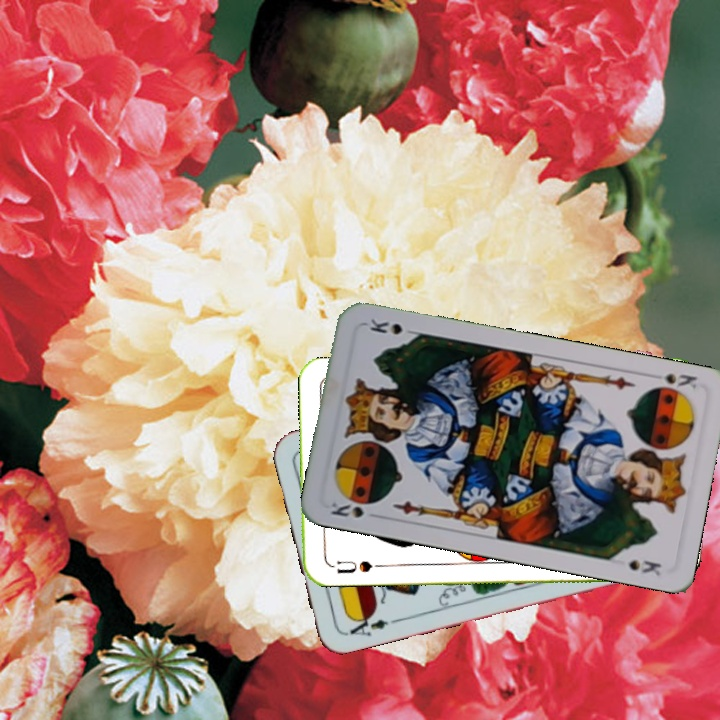EA: (345, 609, 400, 639)
SK: (645, 369, 700, 392), (325, 498, 367, 521)
SU: (326, 556, 385, 577)
